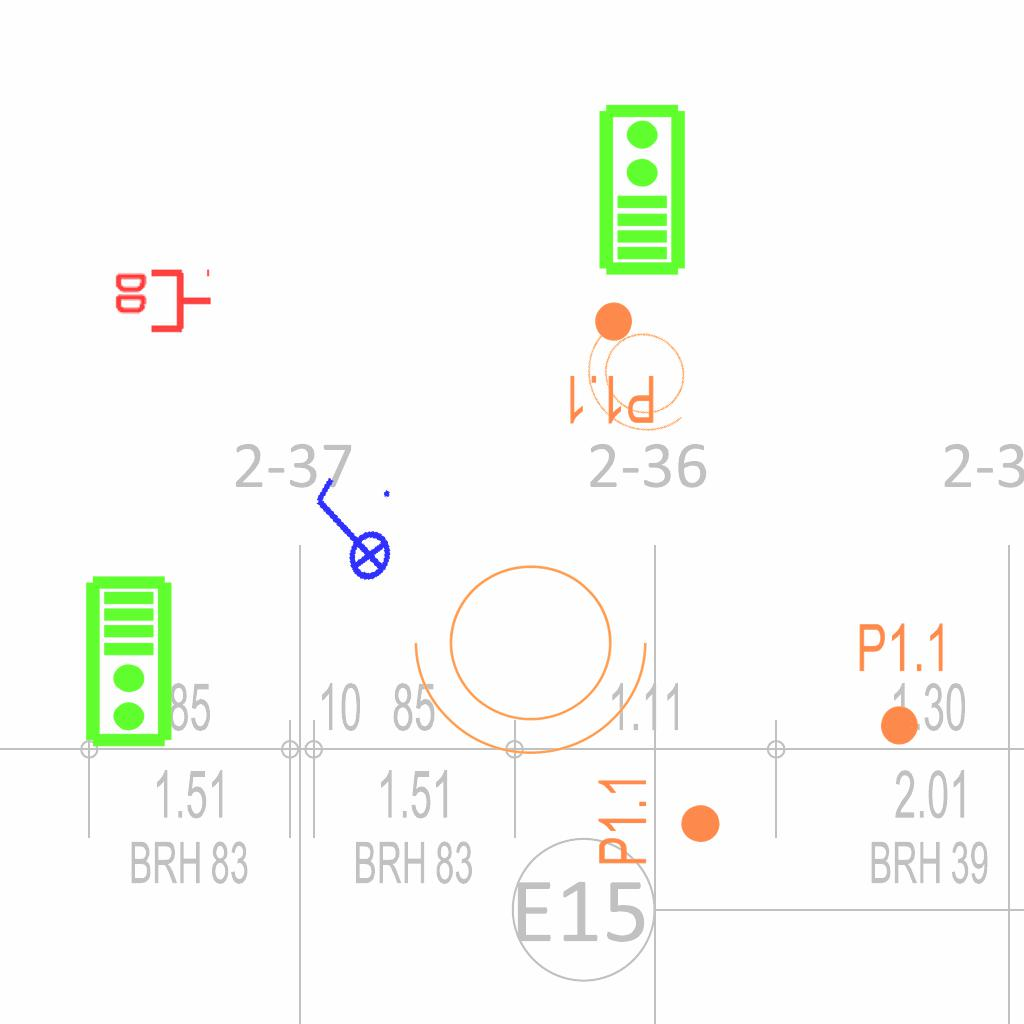Ausschalter_beleuchtet: (288, 465, 410, 599)
Datenanschluss_zweifach: (111, 268, 214, 337)
Downlight_LED_Einbauleuchten_Flur: (856, 620, 949, 748), (595, 774, 723, 867), (564, 299, 657, 427)
Gegensprechanlage_mit_Video: (83, 574, 178, 750), (593, 101, 688, 277)
Scheinwerfer_fuer_Alarmbeleuchtung: (405, 540, 669, 765), (557, 292, 729, 466)
